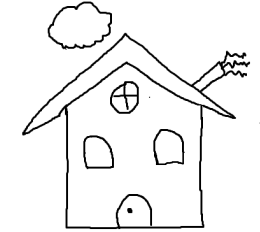closed_window: (108, 80, 139, 114)
clouds: (46, 1, 111, 50)
door: (109, 187, 158, 232)
open_window: (153, 129, 186, 166), (82, 135, 114, 168)
roof: (20, 33, 238, 136)
smoking_chimney: (192, 44, 255, 91)
wall: (62, 84, 207, 232)
